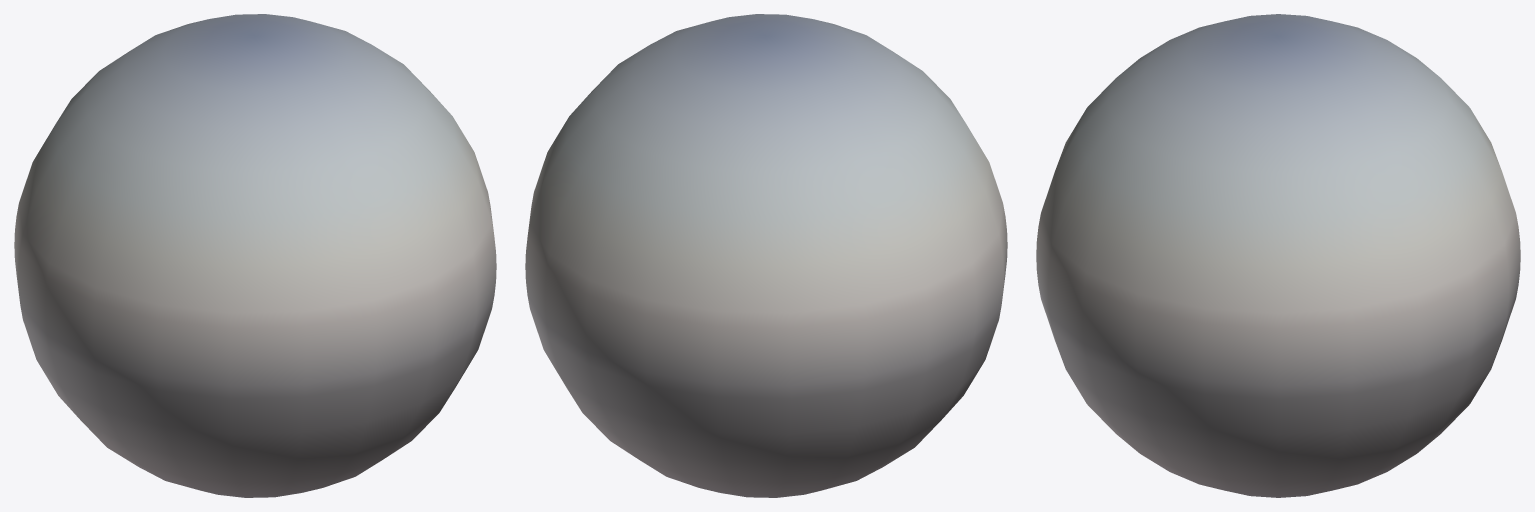
The model's file is S_Sky_Sphere_Warm.fbx.
The picture shows the model from 3 angles, left to right: view 1: azimuth 30°, elevation 25°; view 2: azimuth 150°, elevation 25°; view 3: azimuth 270°, elevation 25°; orthographic projection.
Parts seen in each view (by area): view 1: Sky_Sphere_Warm_GEO; view 2: Sky_Sphere_Warm_GEO; view 3: Sky_Sphere_Warm_GEO.
Boxes of the visible parts, x1,y1,x2,y2 form: Sky_Sphere_Warm_GEO: [14, 14, 496, 497]; Sky_Sphere_Warm_GEO: [525, 14, 1007, 497]; Sky_Sphere_Warm_GEO: [1036, 14, 1520, 497].
Bounding box in the file's own units: 600 × 600 × 600.
